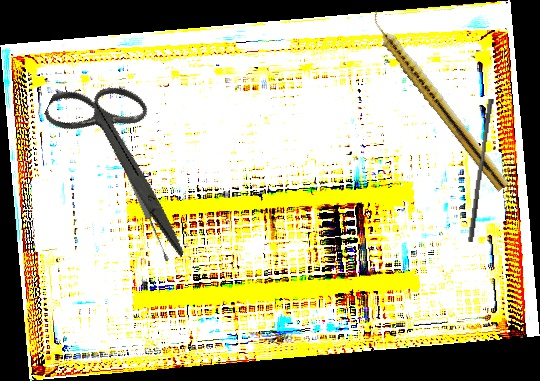Handpiece: (363, 8, 513, 193)
Iris Scissors: (12, 62, 237, 259)
Pusher: (468, 98, 494, 243)
Surgical Spoon: (102, 116, 171, 263)
